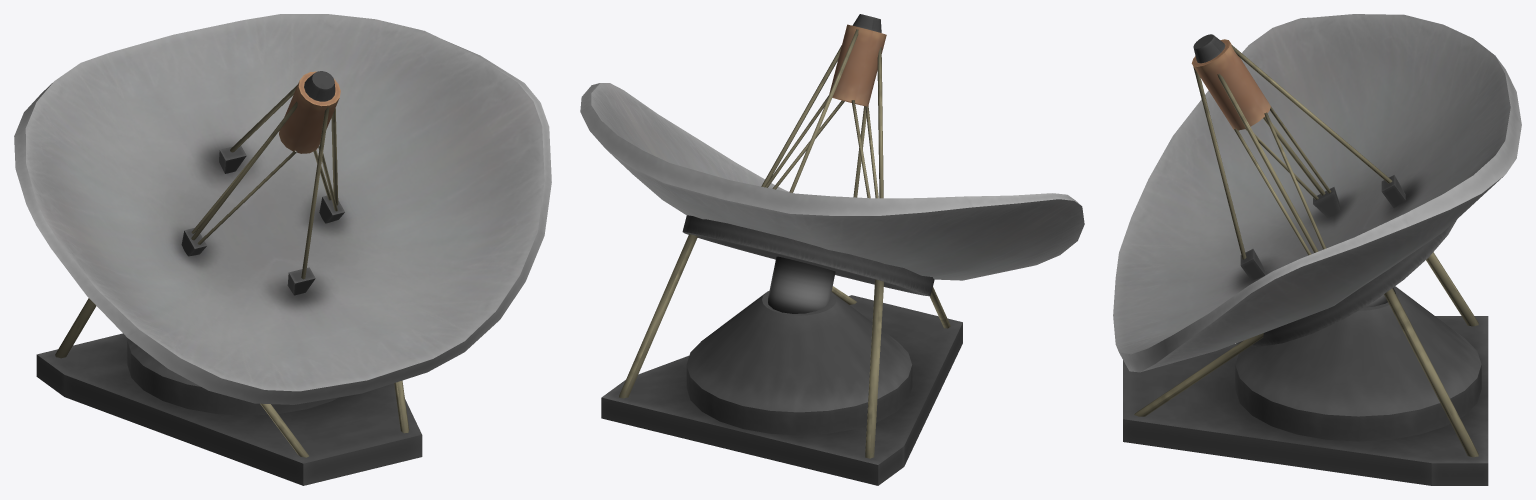
Rendered from Mariner4_Dish.dae.
3 renders of one model, left to right at view 1: azimuth 30°, elevation 25°; view 2: azimuth 150°, elevation 25°; view 3: azimuth 270°, elevation 25°, orthographic. The views are drawn at different scales.
Visible parts, largest first — view 1: Dish_Mariner6; view 2: Dish_Mariner6; view 3: Dish_Mariner6.
Part boxes in pixels (x1=…): Dish_Mariner6: x1=14, y1=14, x2=551, y2=485; Dish_Mariner6: x1=580, y1=14, x2=1084, y2=485; Dish_Mariner6: x1=1113, y1=14, x2=1521, y2=485.
Size of the model in its own units: 0.4793 by 0.3339 by 0.3289.
